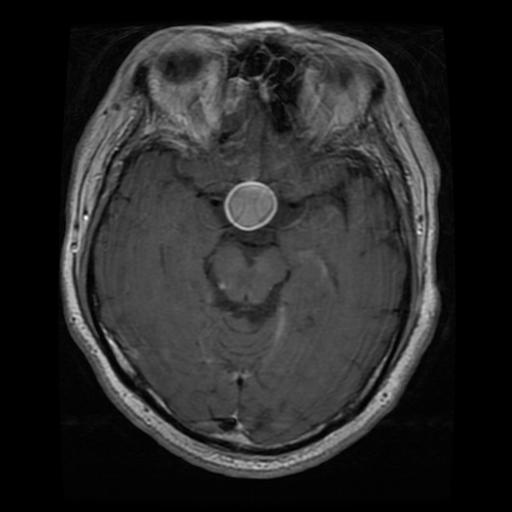Pituirity_tumour: (225, 182, 276, 230)
